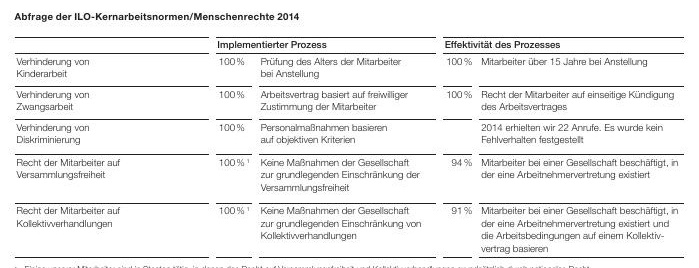table: (0, 0, 699, 268)
